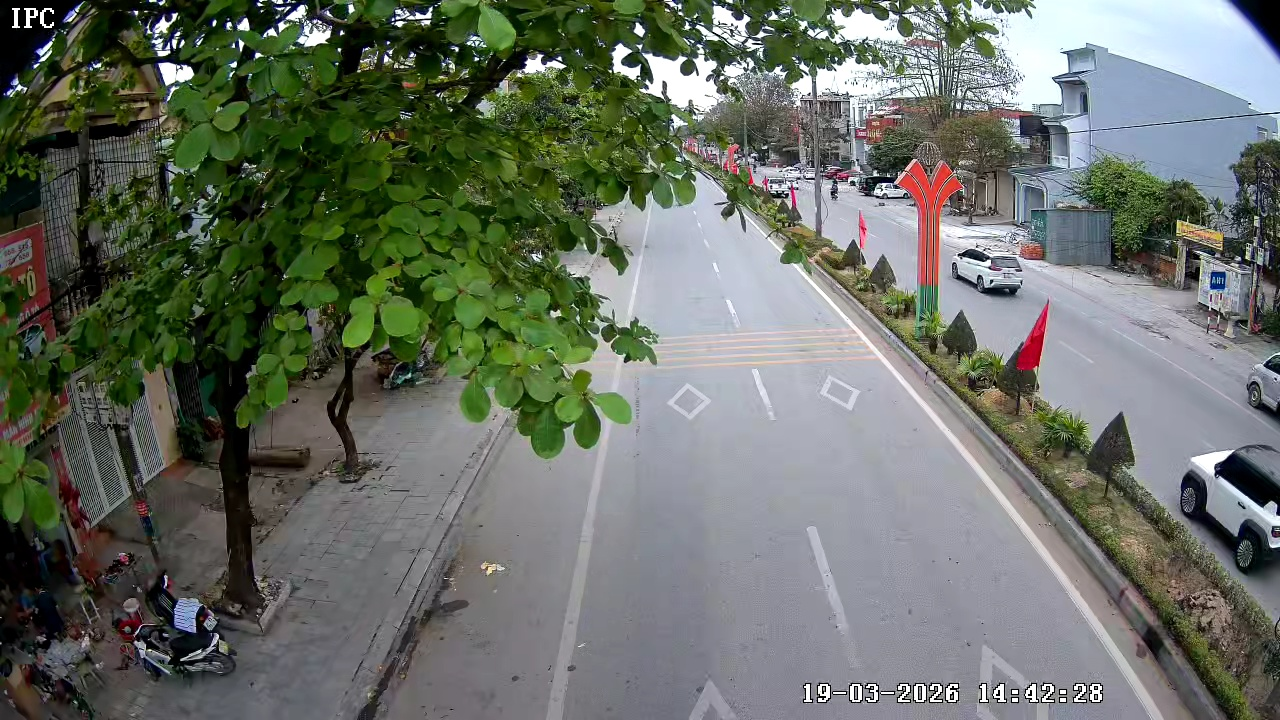car: (1177, 442, 1279, 571), (951, 242, 1027, 294), (1245, 347, 1279, 427)
